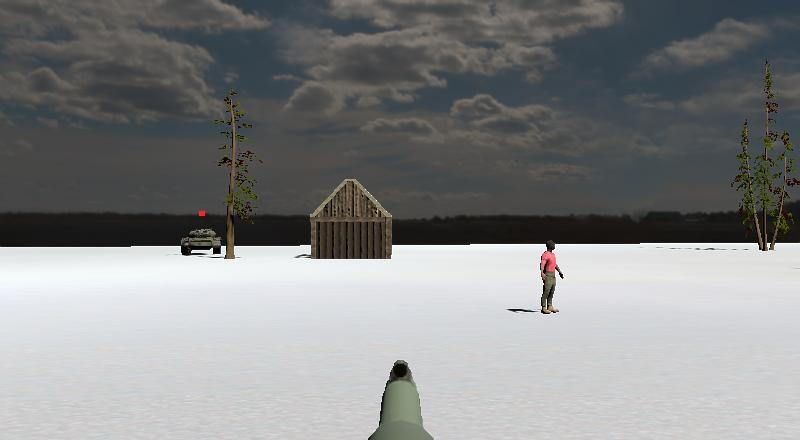House: (297, 161, 406, 291)
Human: (521, 230, 580, 325)
Tank: (174, 221, 233, 264), (173, 221, 233, 263)
